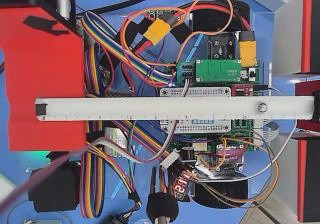ironball: (256, 102, 266, 112)
